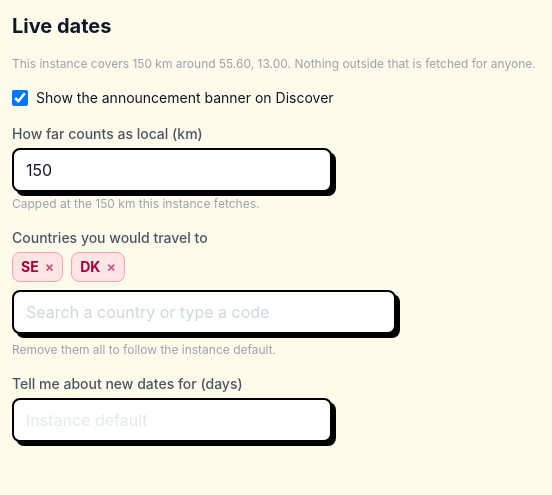
Scenario: LivePreferencesSection › surfaces a rejected save
This screenshot has width=552, height=495.
Click the checkbox: (20, 98) 12,90 -> 28,106
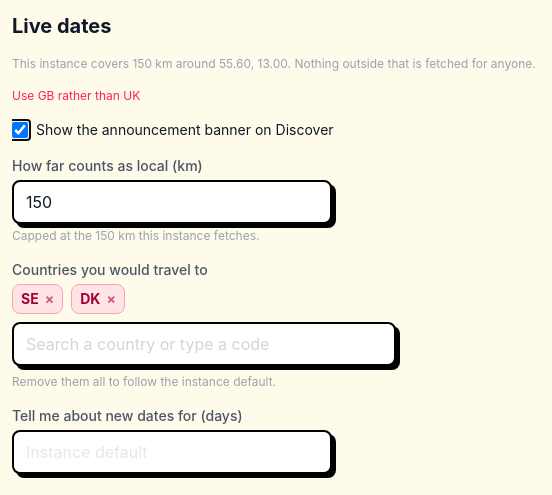
Expected: the text "Use GB rather than UK" is shown, 12,88 -> 140,103
